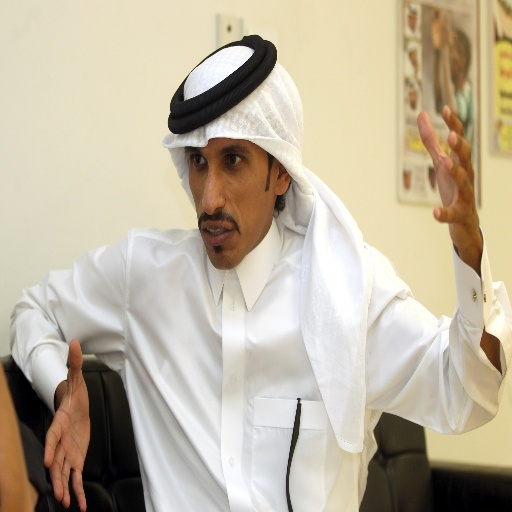hand: (416, 103, 481, 248), (37, 360, 95, 505), (438, 9, 455, 51), (428, 5, 442, 52)
